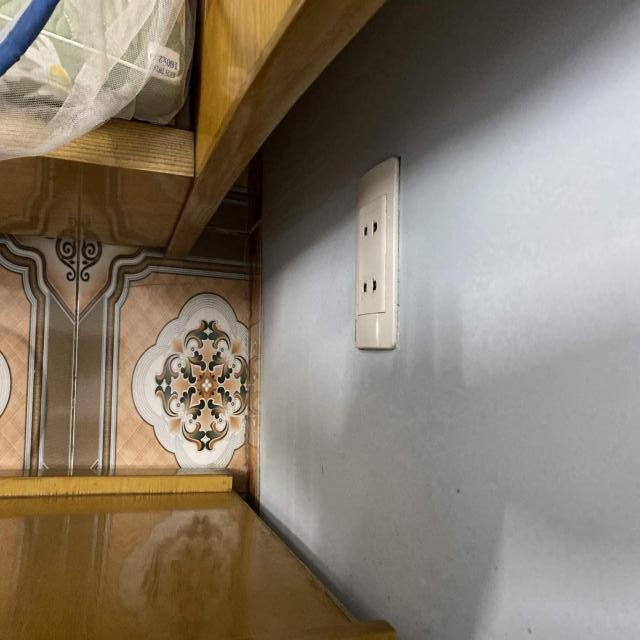outlet: (354, 156, 401, 350)
